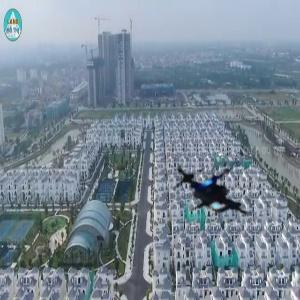drone: (174, 145, 266, 237)
